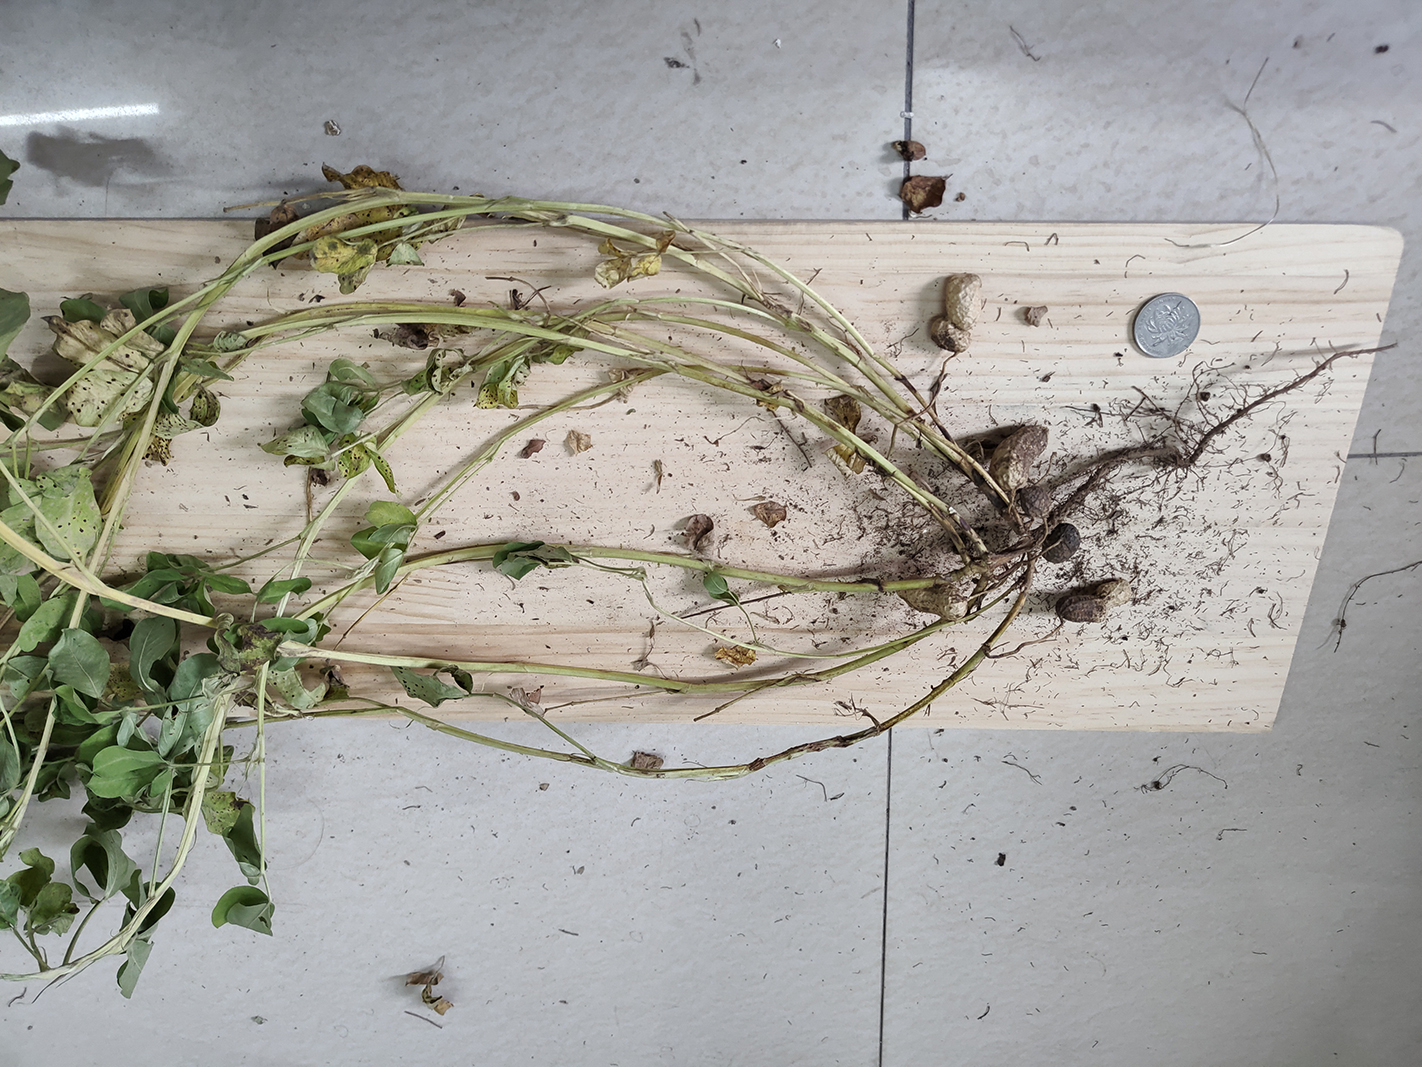h: (930, 272, 983, 353), (899, 590, 968, 622)
l: (989, 425, 1048, 492), (1057, 579, 1128, 624), (1041, 525, 1082, 565), (1020, 488, 1051, 517)
